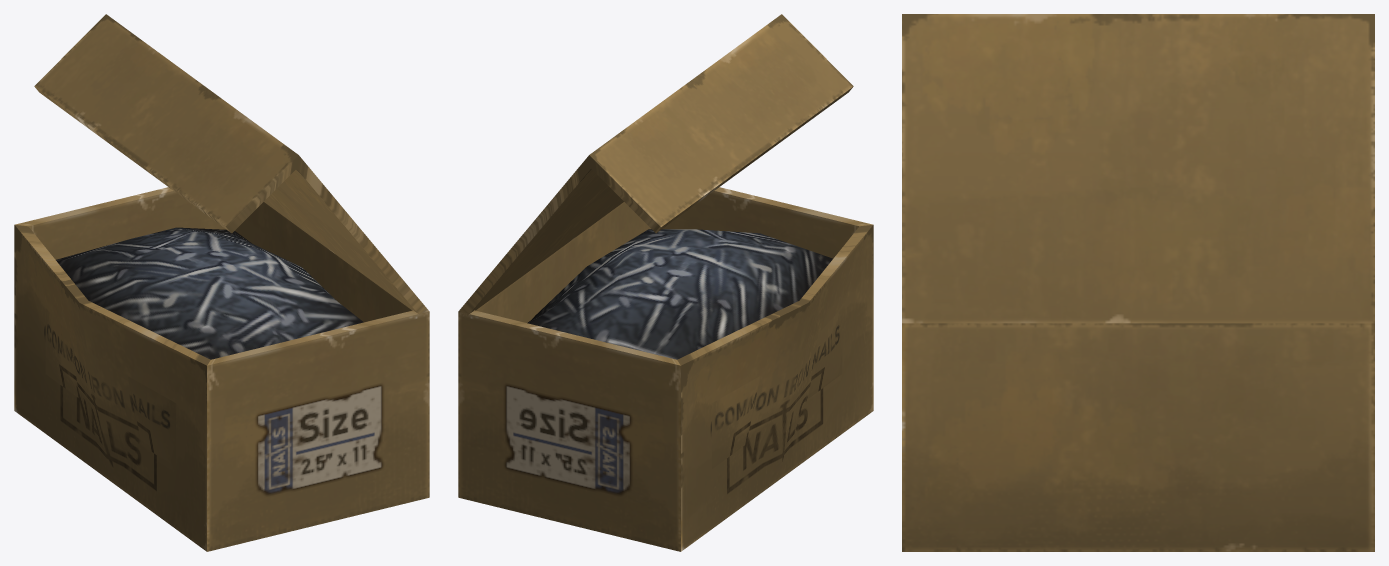
Rendered from ITEM_nailbox.fbx.
3 views of the same model, side by side, from view 1: azimuth 30°, elevation 25°; view 2: azimuth 150°, elevation 25°; view 3: azimuth 270°, elevation 25° (orthographic). The views are drawn at different scales.
Visible parts, largest first — view 1: ITEM_nailbox; view 2: ITEM_nailbox; view 3: ITEM_nailbox.
Boxes of the visible parts, <box> form: ITEM_nailbox: <box>14,14,429,551</box>; ITEM_nailbox: <box>458,14,873,551</box>; ITEM_nailbox: <box>902,14,1374,551</box>.
Size of the model in its own units: 11.4 by 16.09 by 15.
